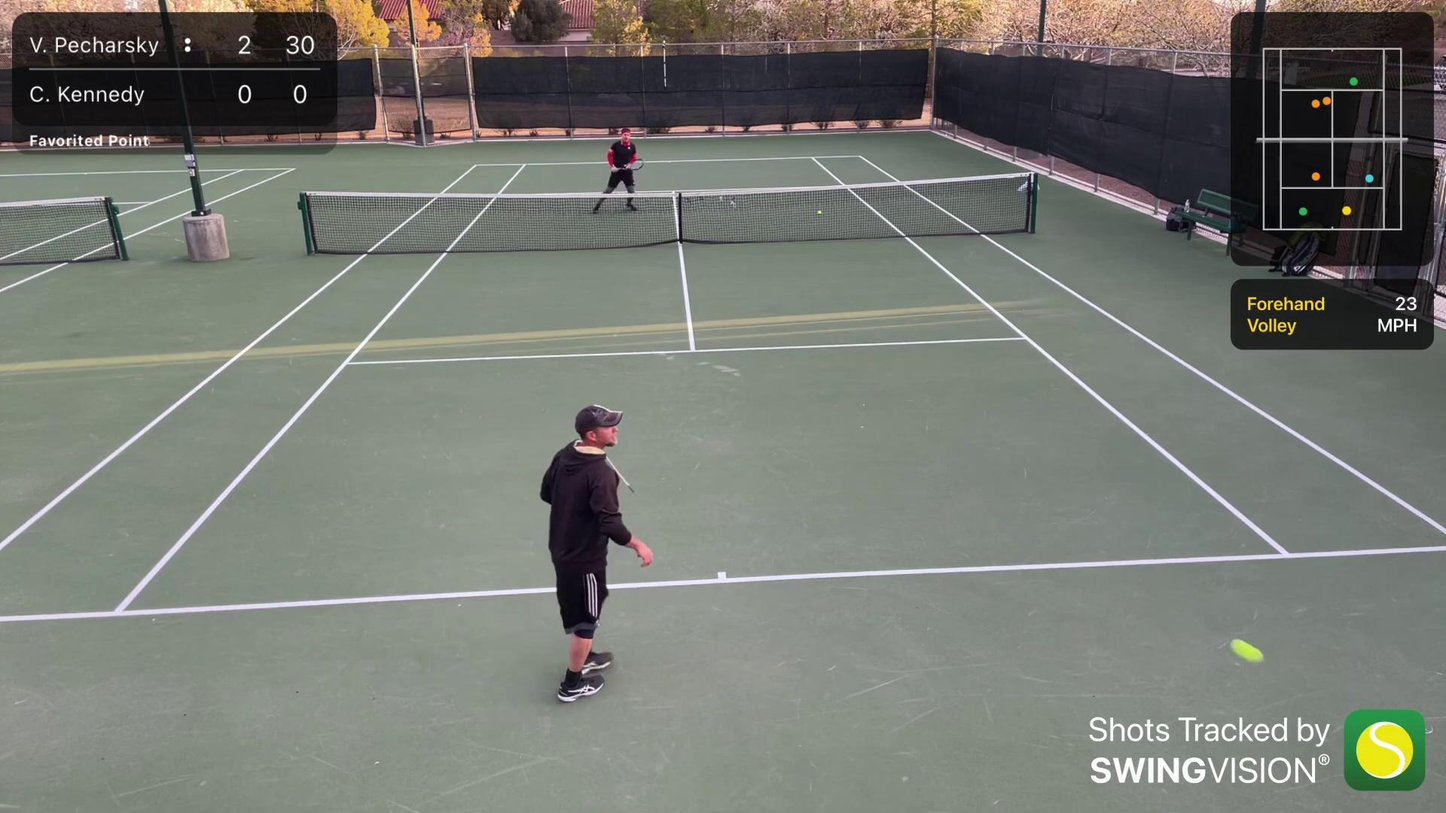ball: (1226, 634, 1266, 664), (816, 209, 823, 215)
